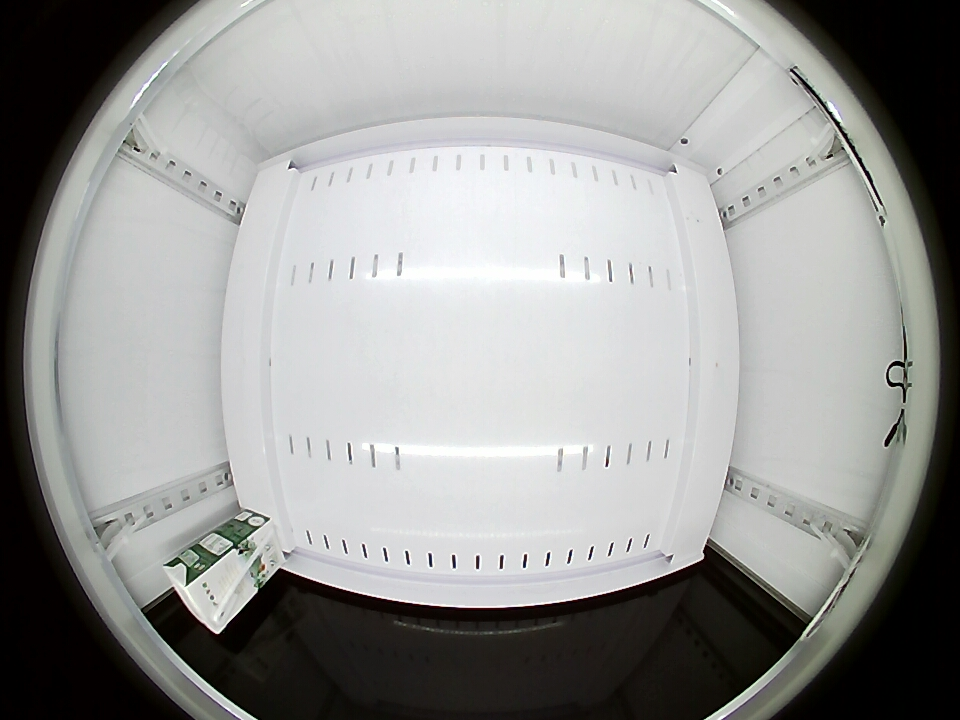jindian: (163, 540, 244, 634)
